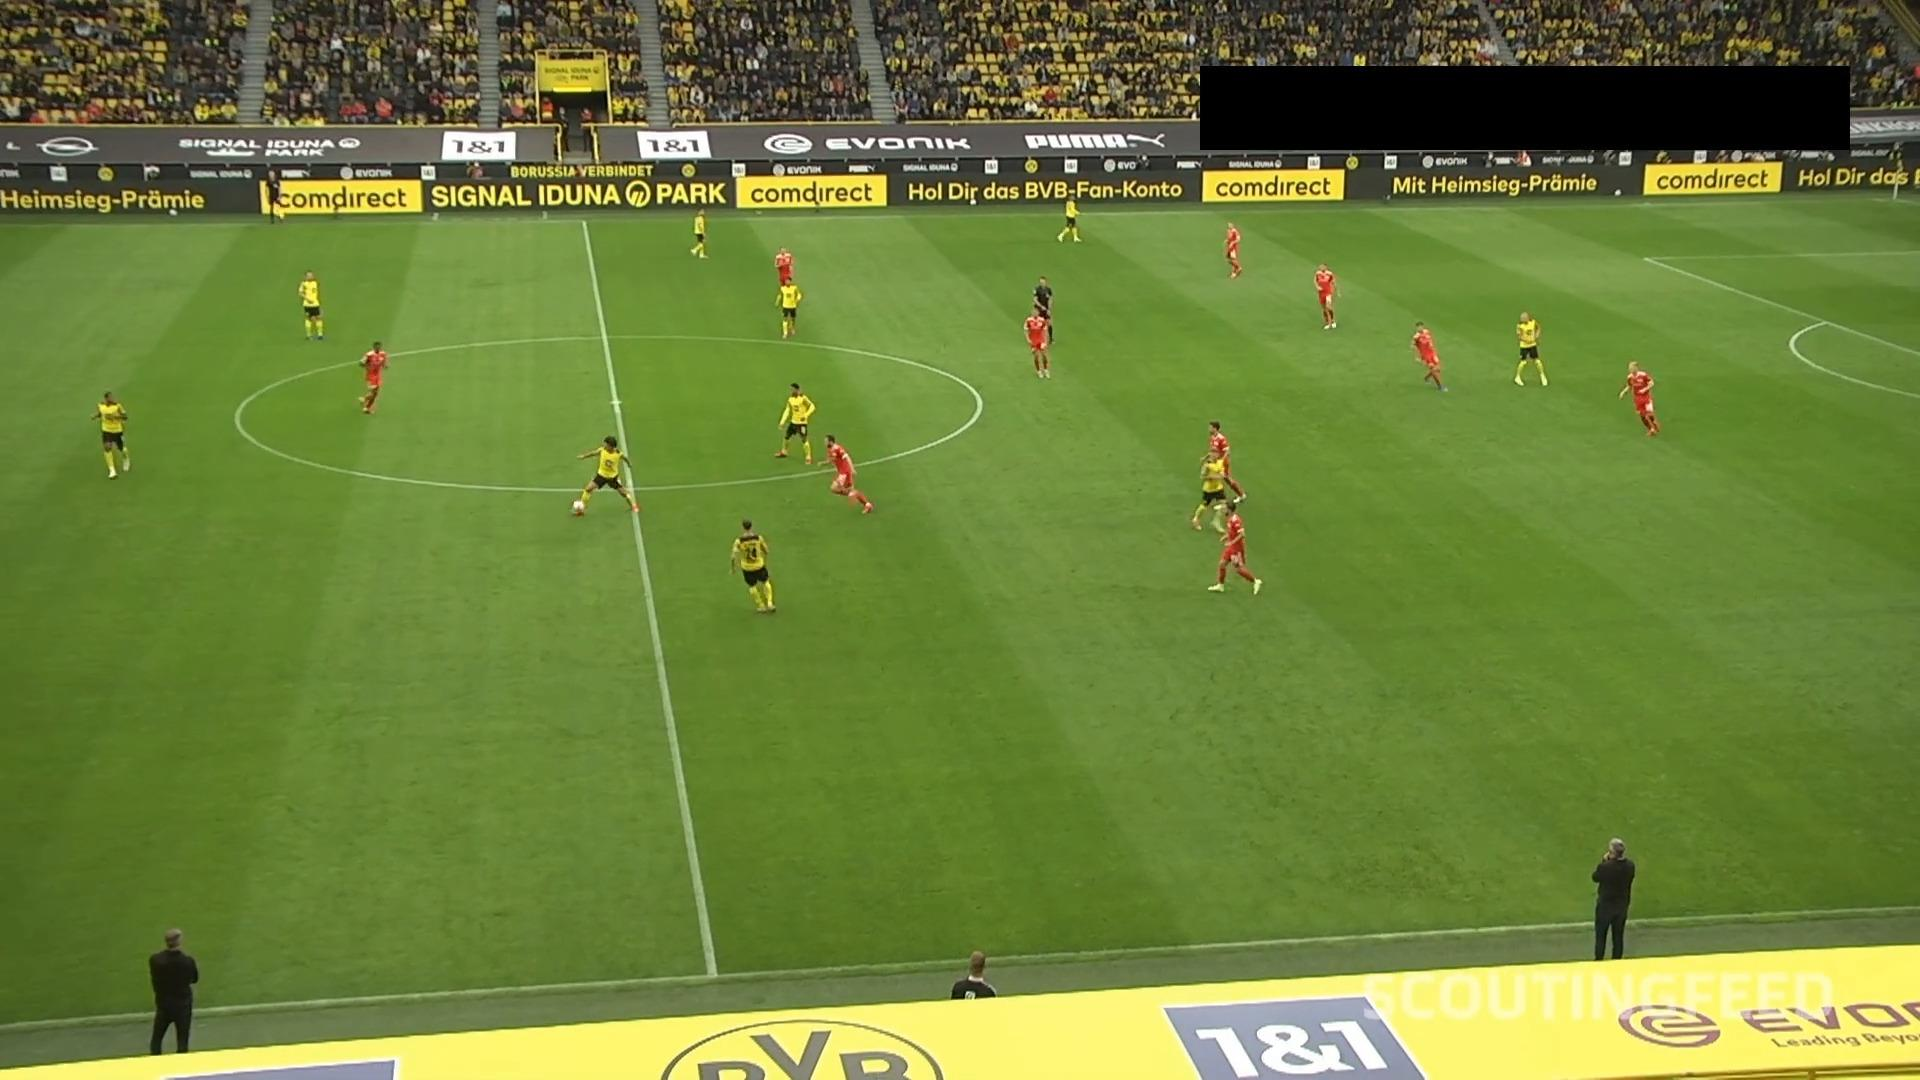ball: (571, 500, 585, 516)
